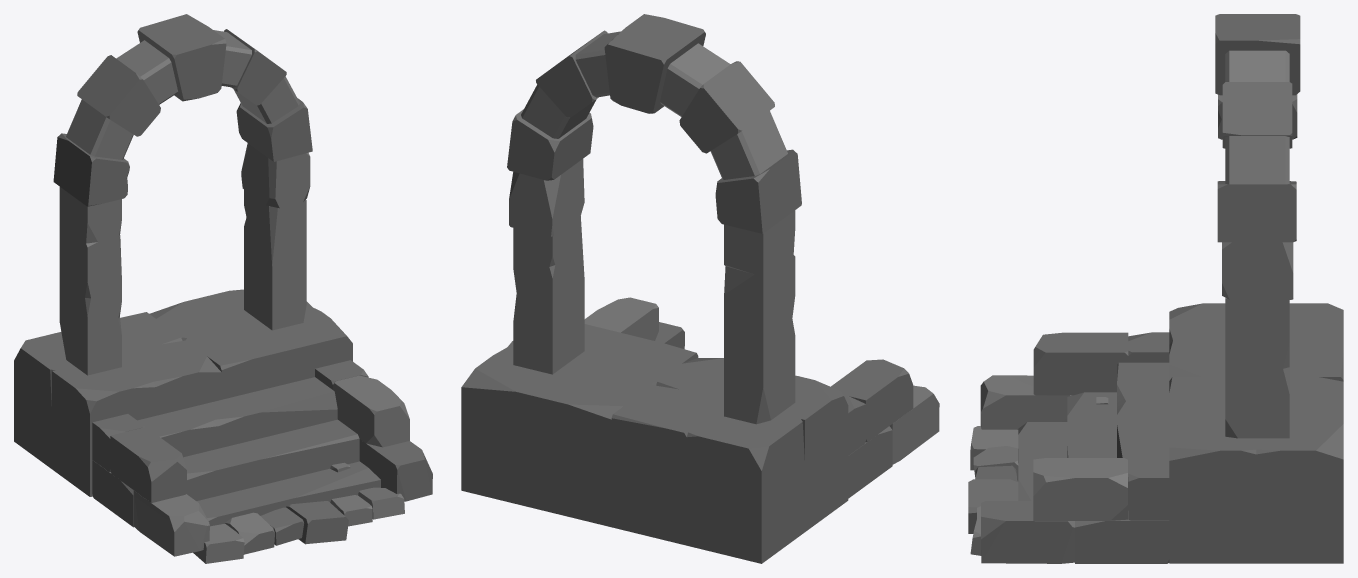
Rendered from Arch_04.fbx.
3 renders of one model, left to right at view 1: azimuth 30°, elevation 25°; view 2: azimuth 150°, elevation 25°; view 3: azimuth 270°, elevation 25°, orthographic. The views are drawn at different scales.
Visible parts, largest first — view 1: Arch_04_LOD0; view 2: Arch_04_LOD0; view 3: Arch_04_LOD0.
Boxes of the visible parts, bbox=[...] form: Arch_04_LOD0: bbox=[14, 14, 432, 563]; Arch_04_LOD0: bbox=[461, 14, 939, 563]; Arch_04_LOD0: bbox=[968, 14, 1343, 563].
Size of what is drawn, in the model's own units: 2.8 by 4.32 by 3.01.
